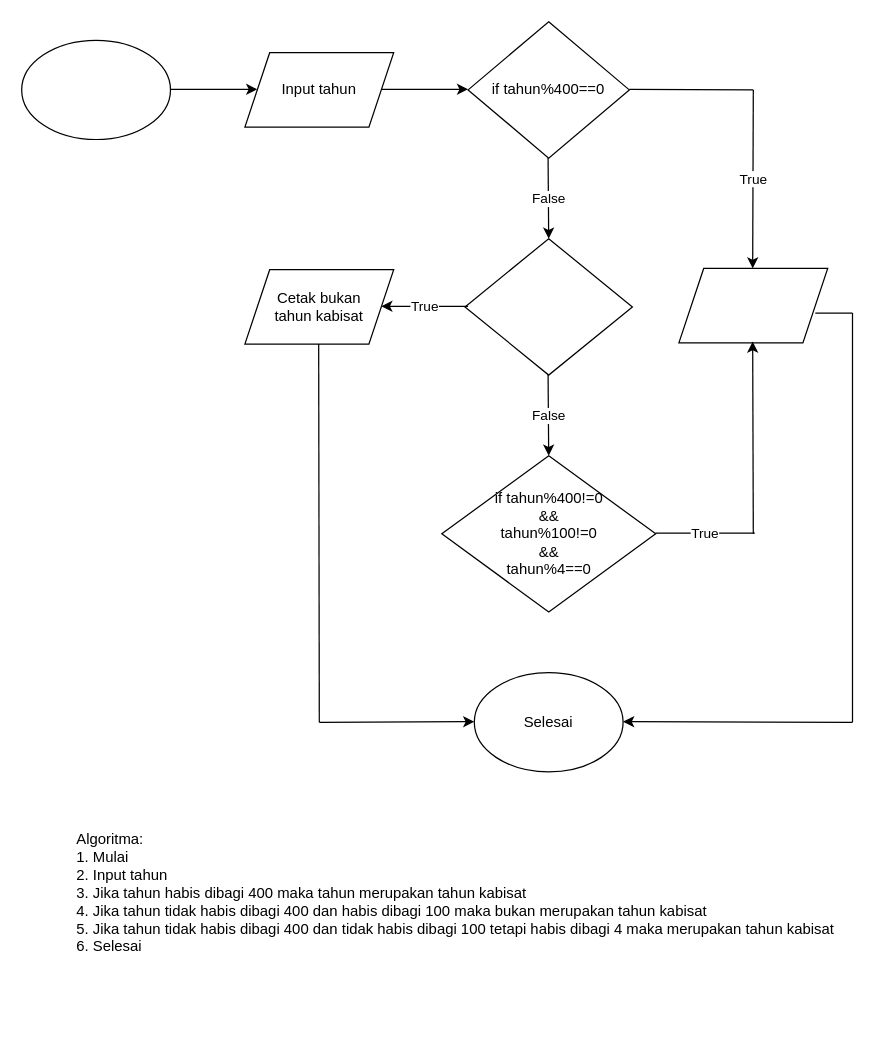
The diagram is 887 pixels wide and 1054 high, and some of its shapes have lost their labels. Here are the shapes that lost their labels. From the top down, the centre of each, then its label:
the point at 95,89: Mulai
the point at 548,306: if tahun%400!=0 && tahun%100==0
the point at 753,305: Cetak tahun kabisat
